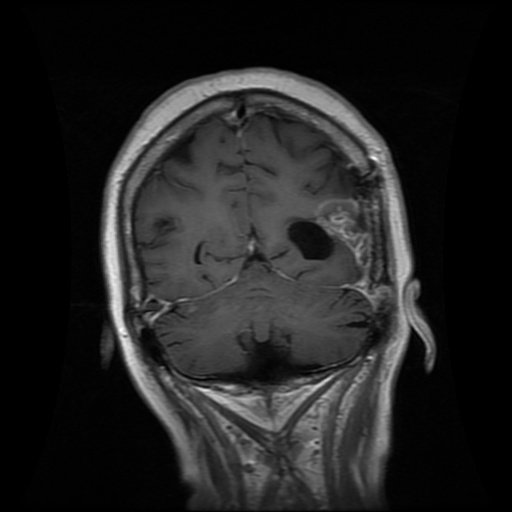glioma: (285, 195, 372, 272)
